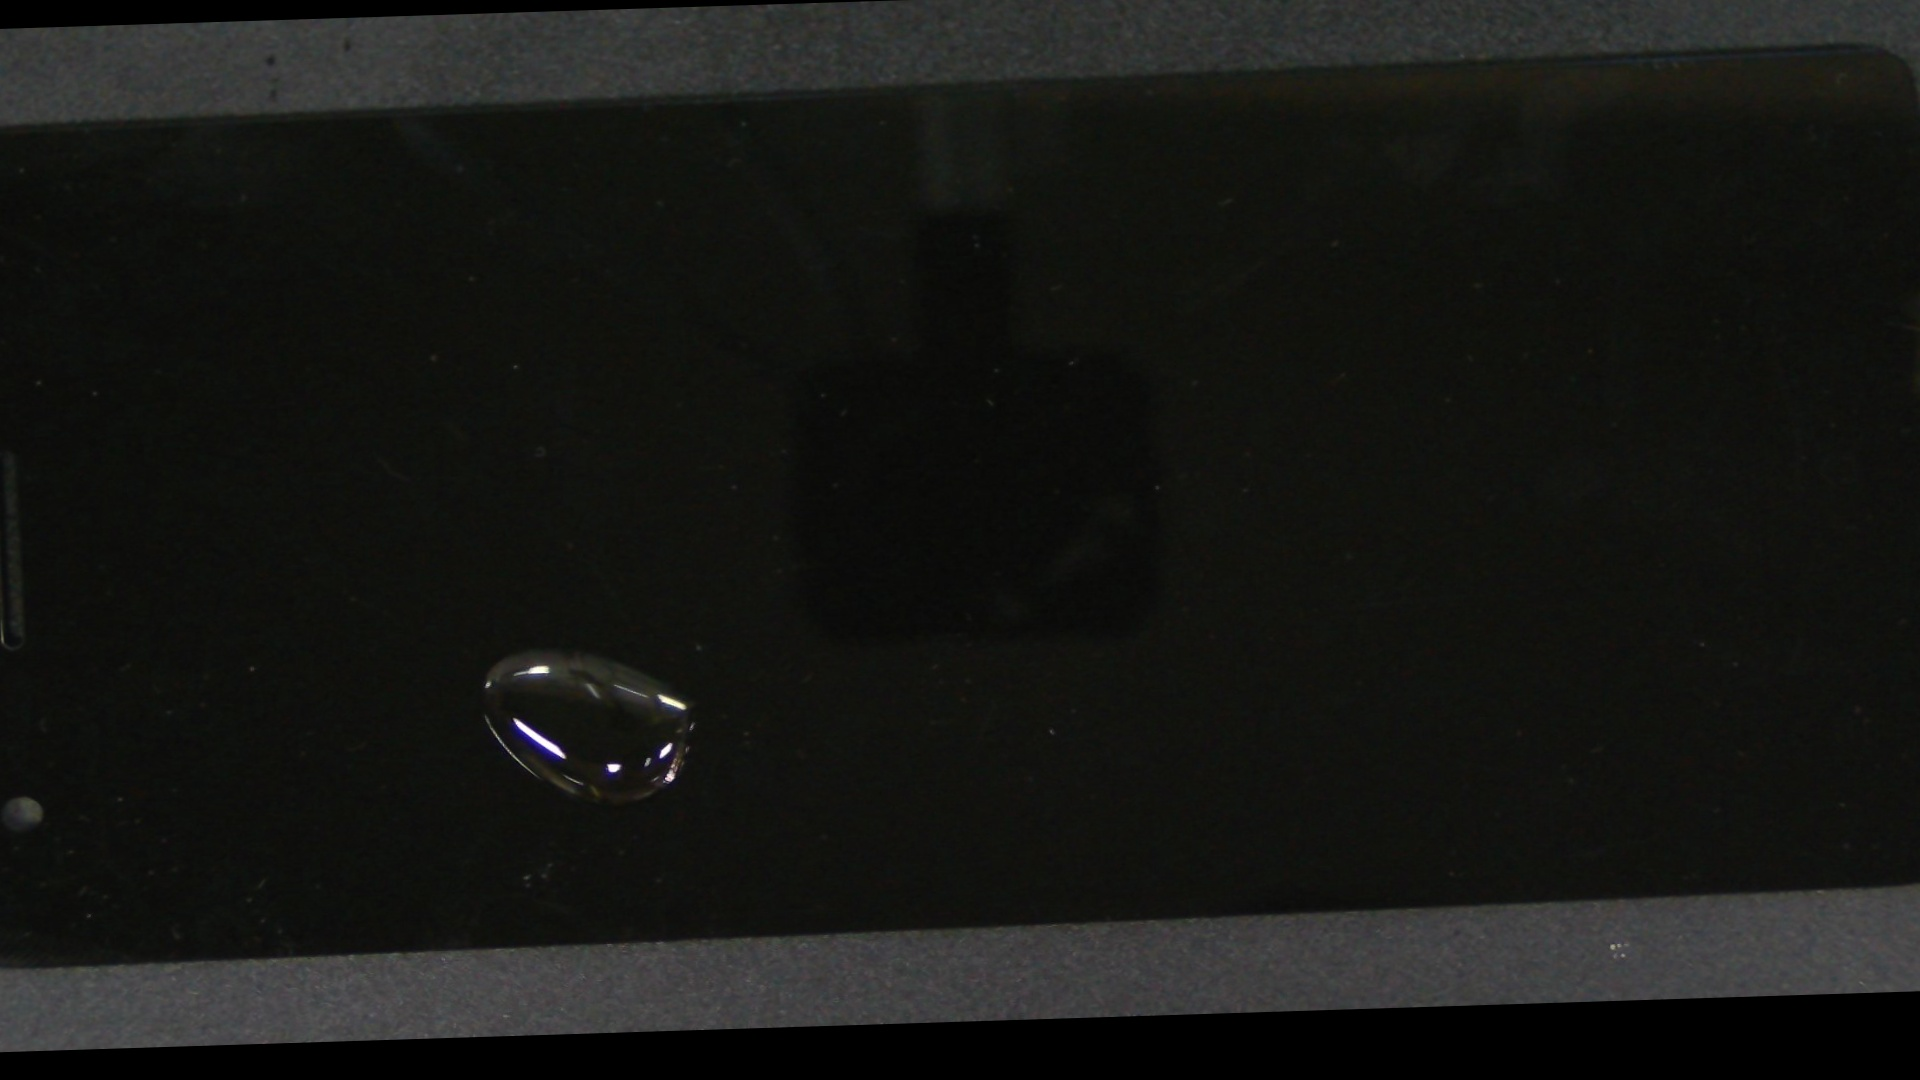oil: (202, 319, 887, 978)
